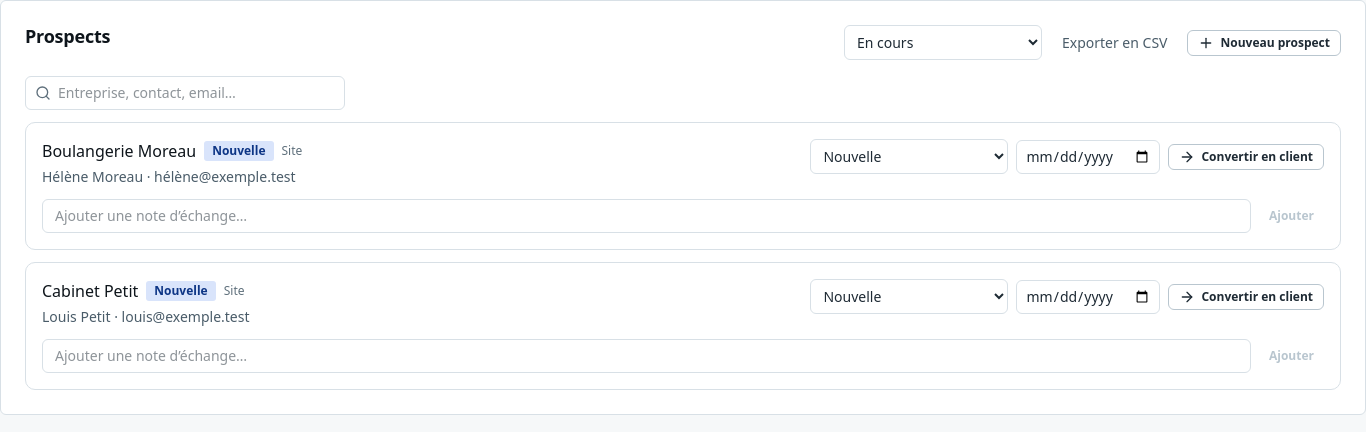
Test: ProspectsPanel — chercher un prospect › filtre par entreprise ou par contact, sans tenir compte des accents
Type "helene" into the search field named "Rechercher un prospect" at coordinates (185, 93), box [25,76,345,110]
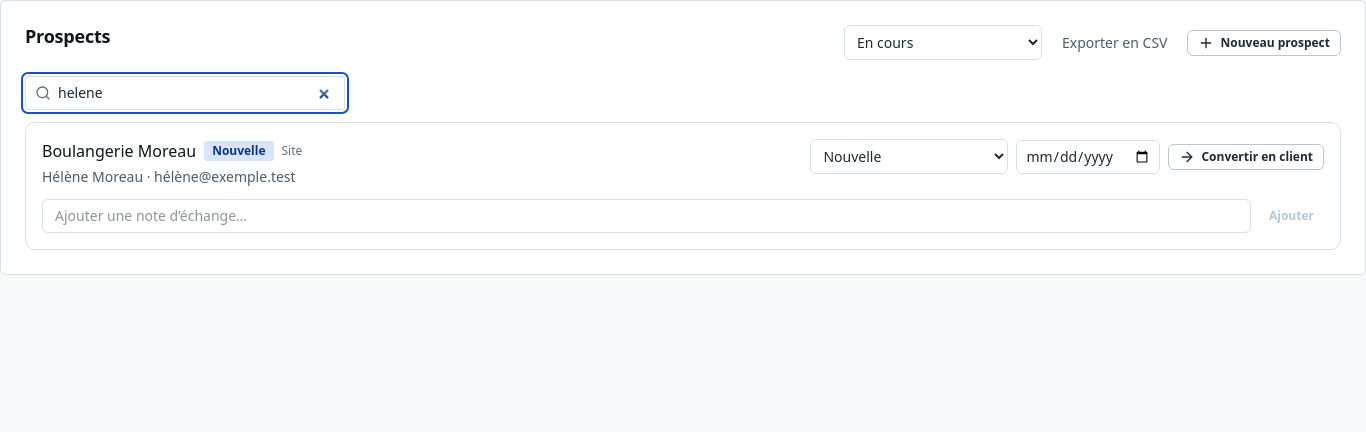
Expected: the text "Boulangerie Moreau" is shown, [42,140,196,162]
Now the text "Cabinet Petit" is gone
